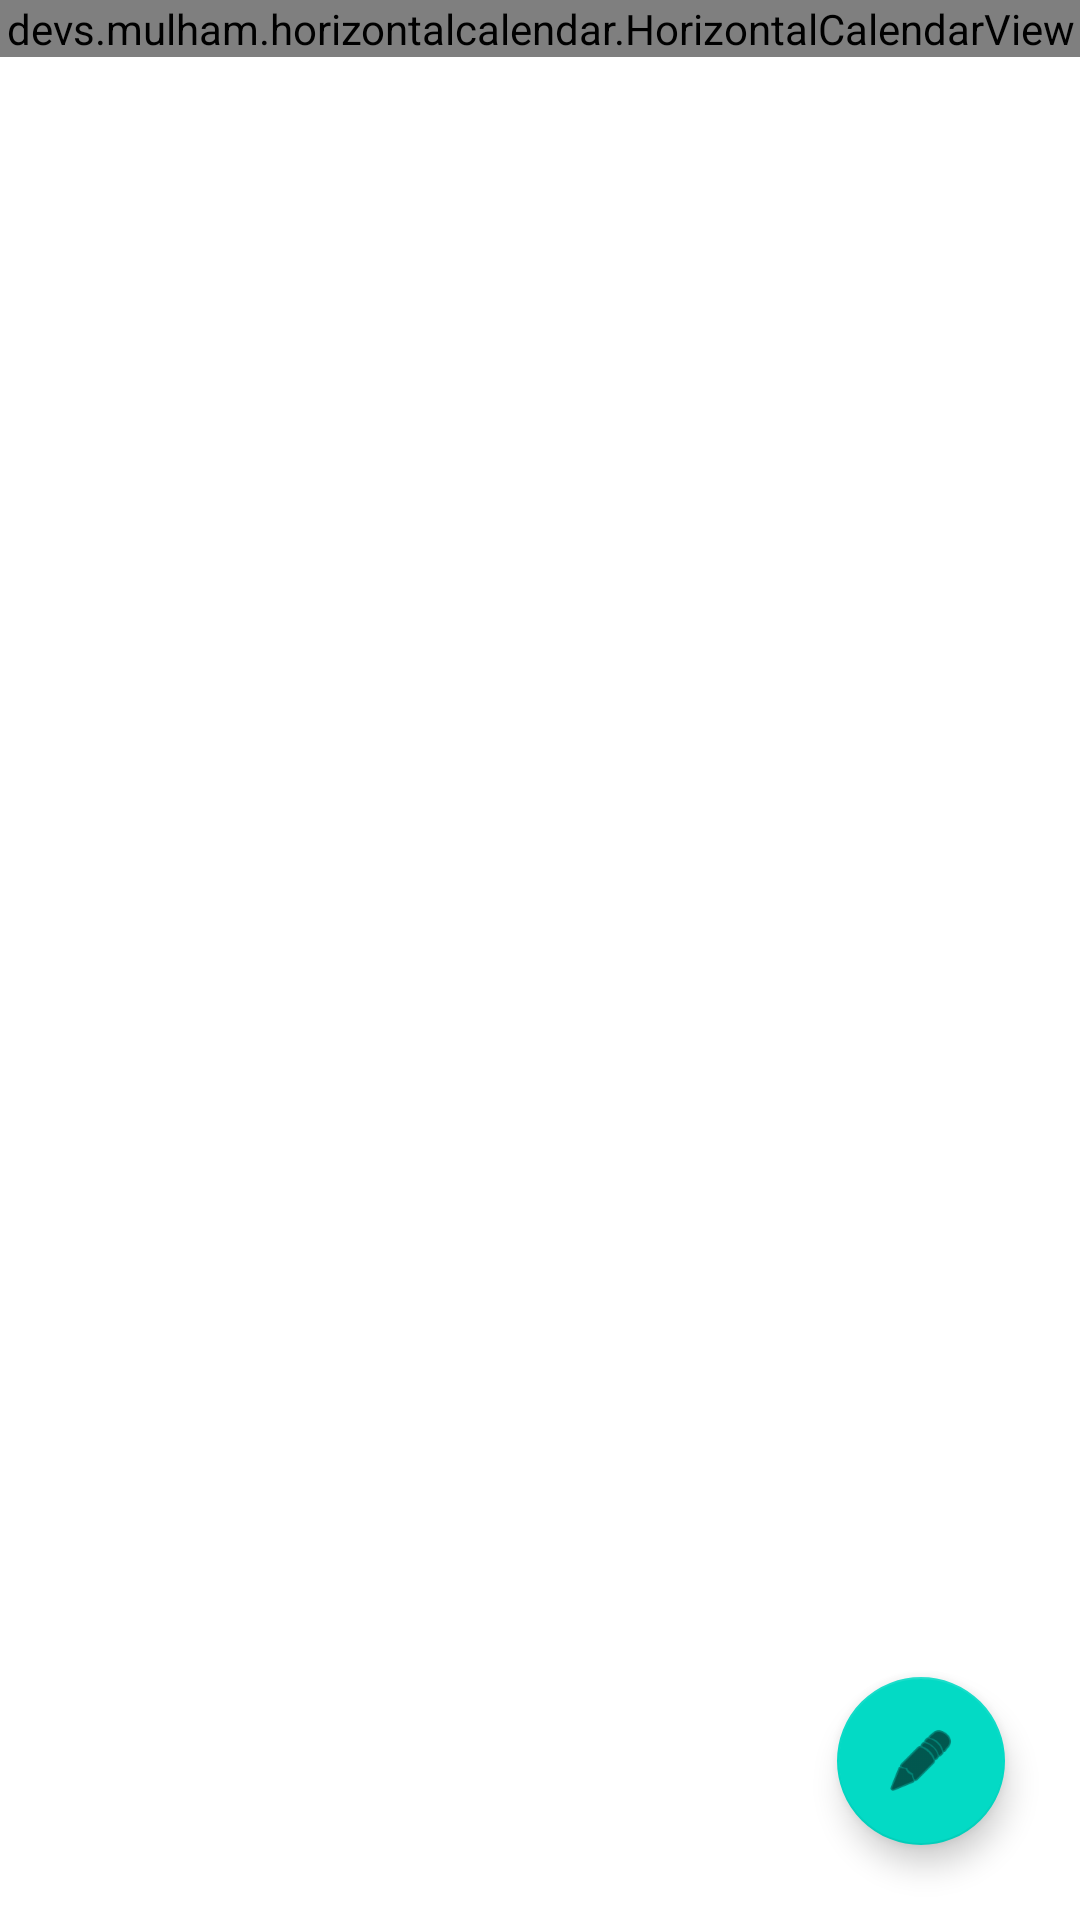

Icons on this 1080px x 1920px Android screen, each with its box as (x1, y1, x2, y2):
edit: (837, 1677, 1005, 1845)
